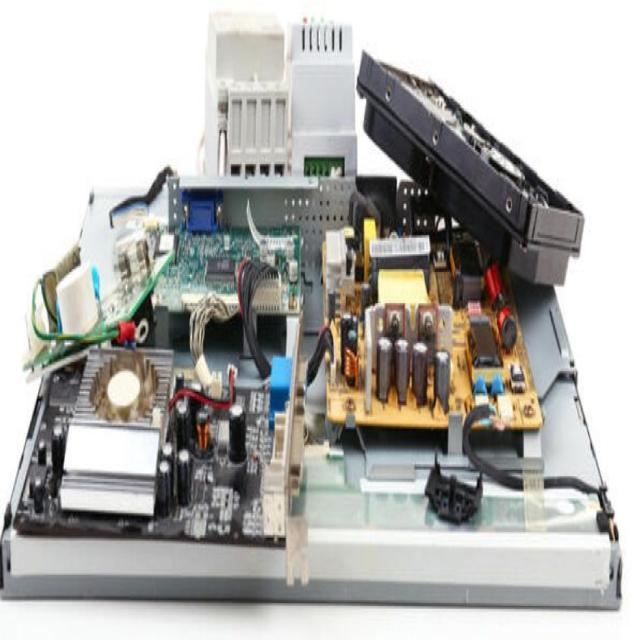electronic: (0, 27, 623, 609)
